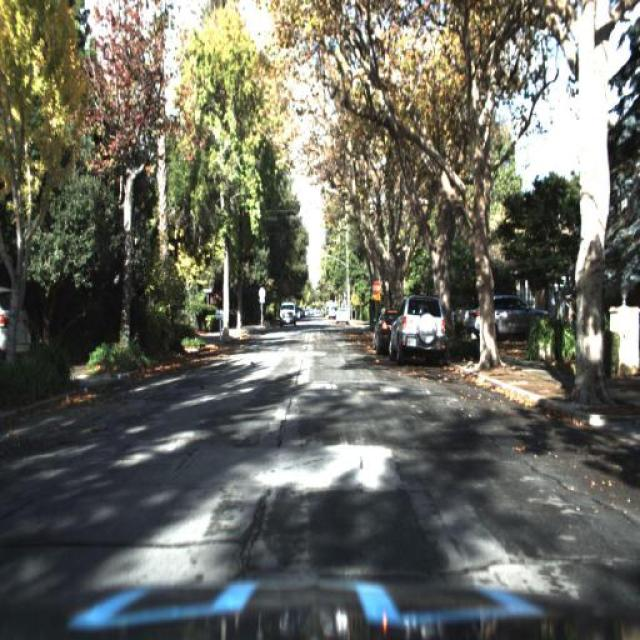car: (384, 291, 450, 368), (466, 292, 549, 341), (371, 298, 390, 362), (278, 296, 298, 328), (333, 304, 352, 332)
